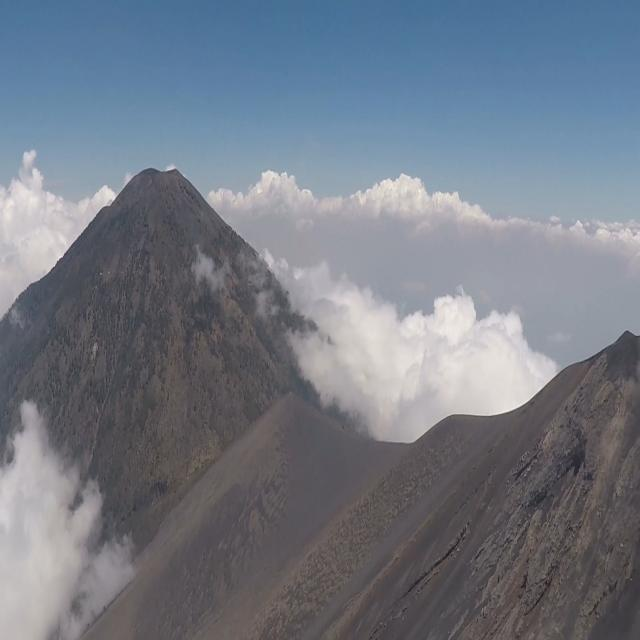Summit: (411, 326, 640, 640)
